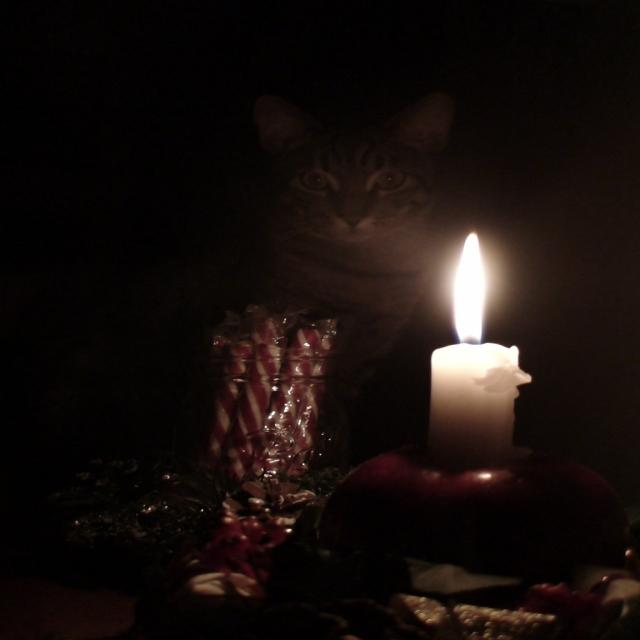Cat: (26, 64, 507, 568)
